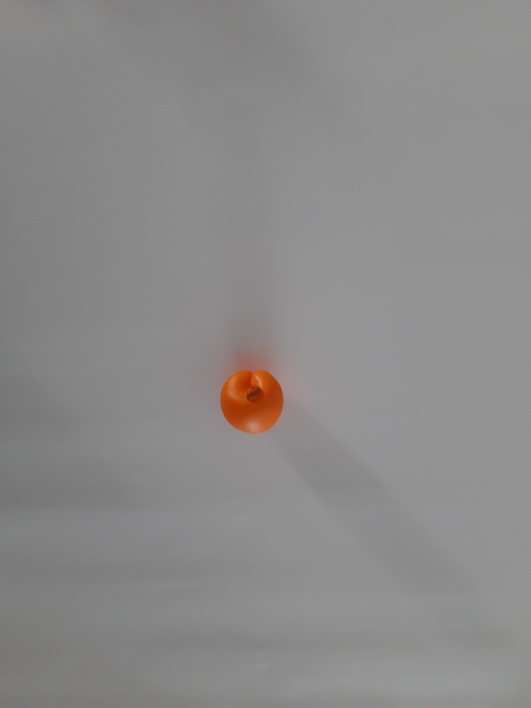apricot: (200, 354, 298, 453)
